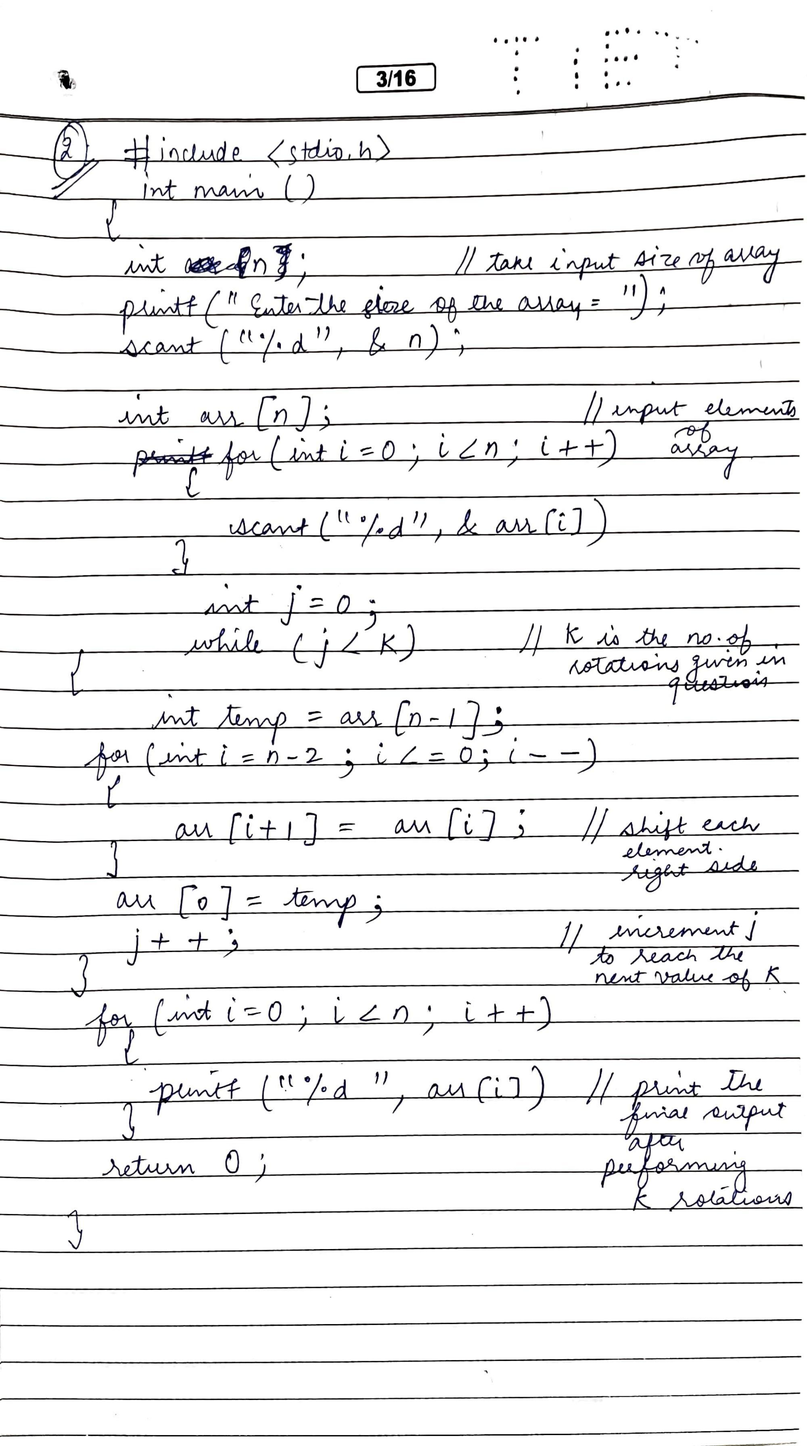cuttings: (131, 444, 214, 479), (183, 245, 253, 280), (271, 242, 294, 282)
